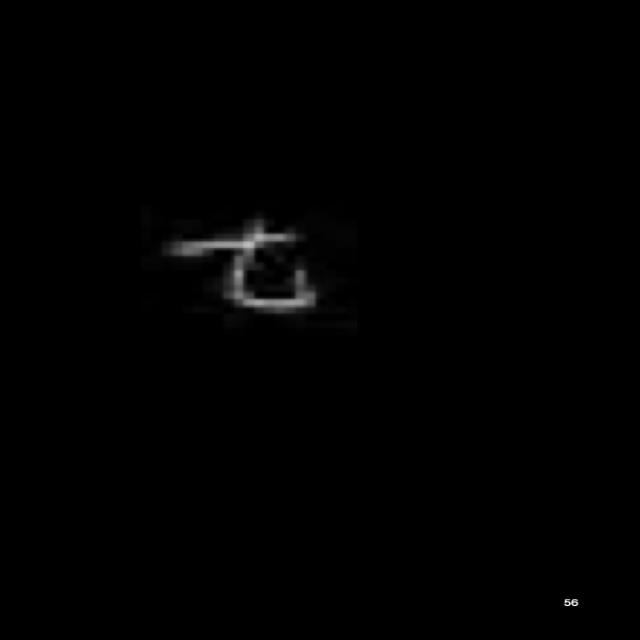7 -seven-: (175, 214, 322, 320)
